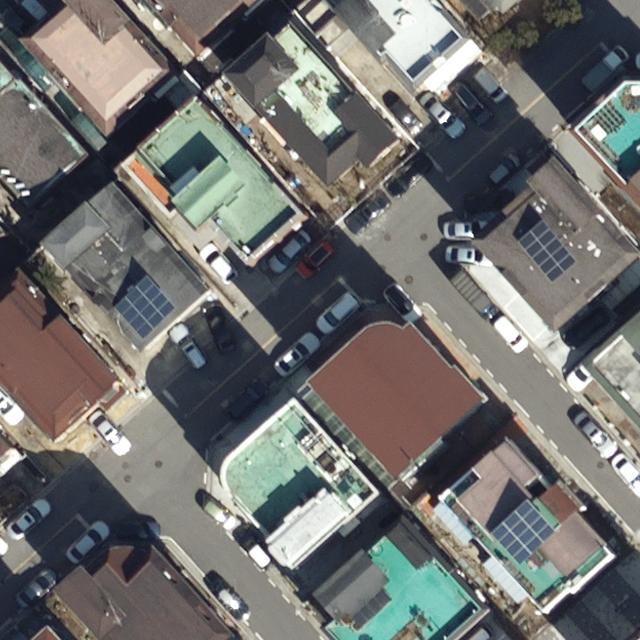panel: (486, 498, 556, 567), (118, 273, 184, 341), (514, 219, 578, 283)
